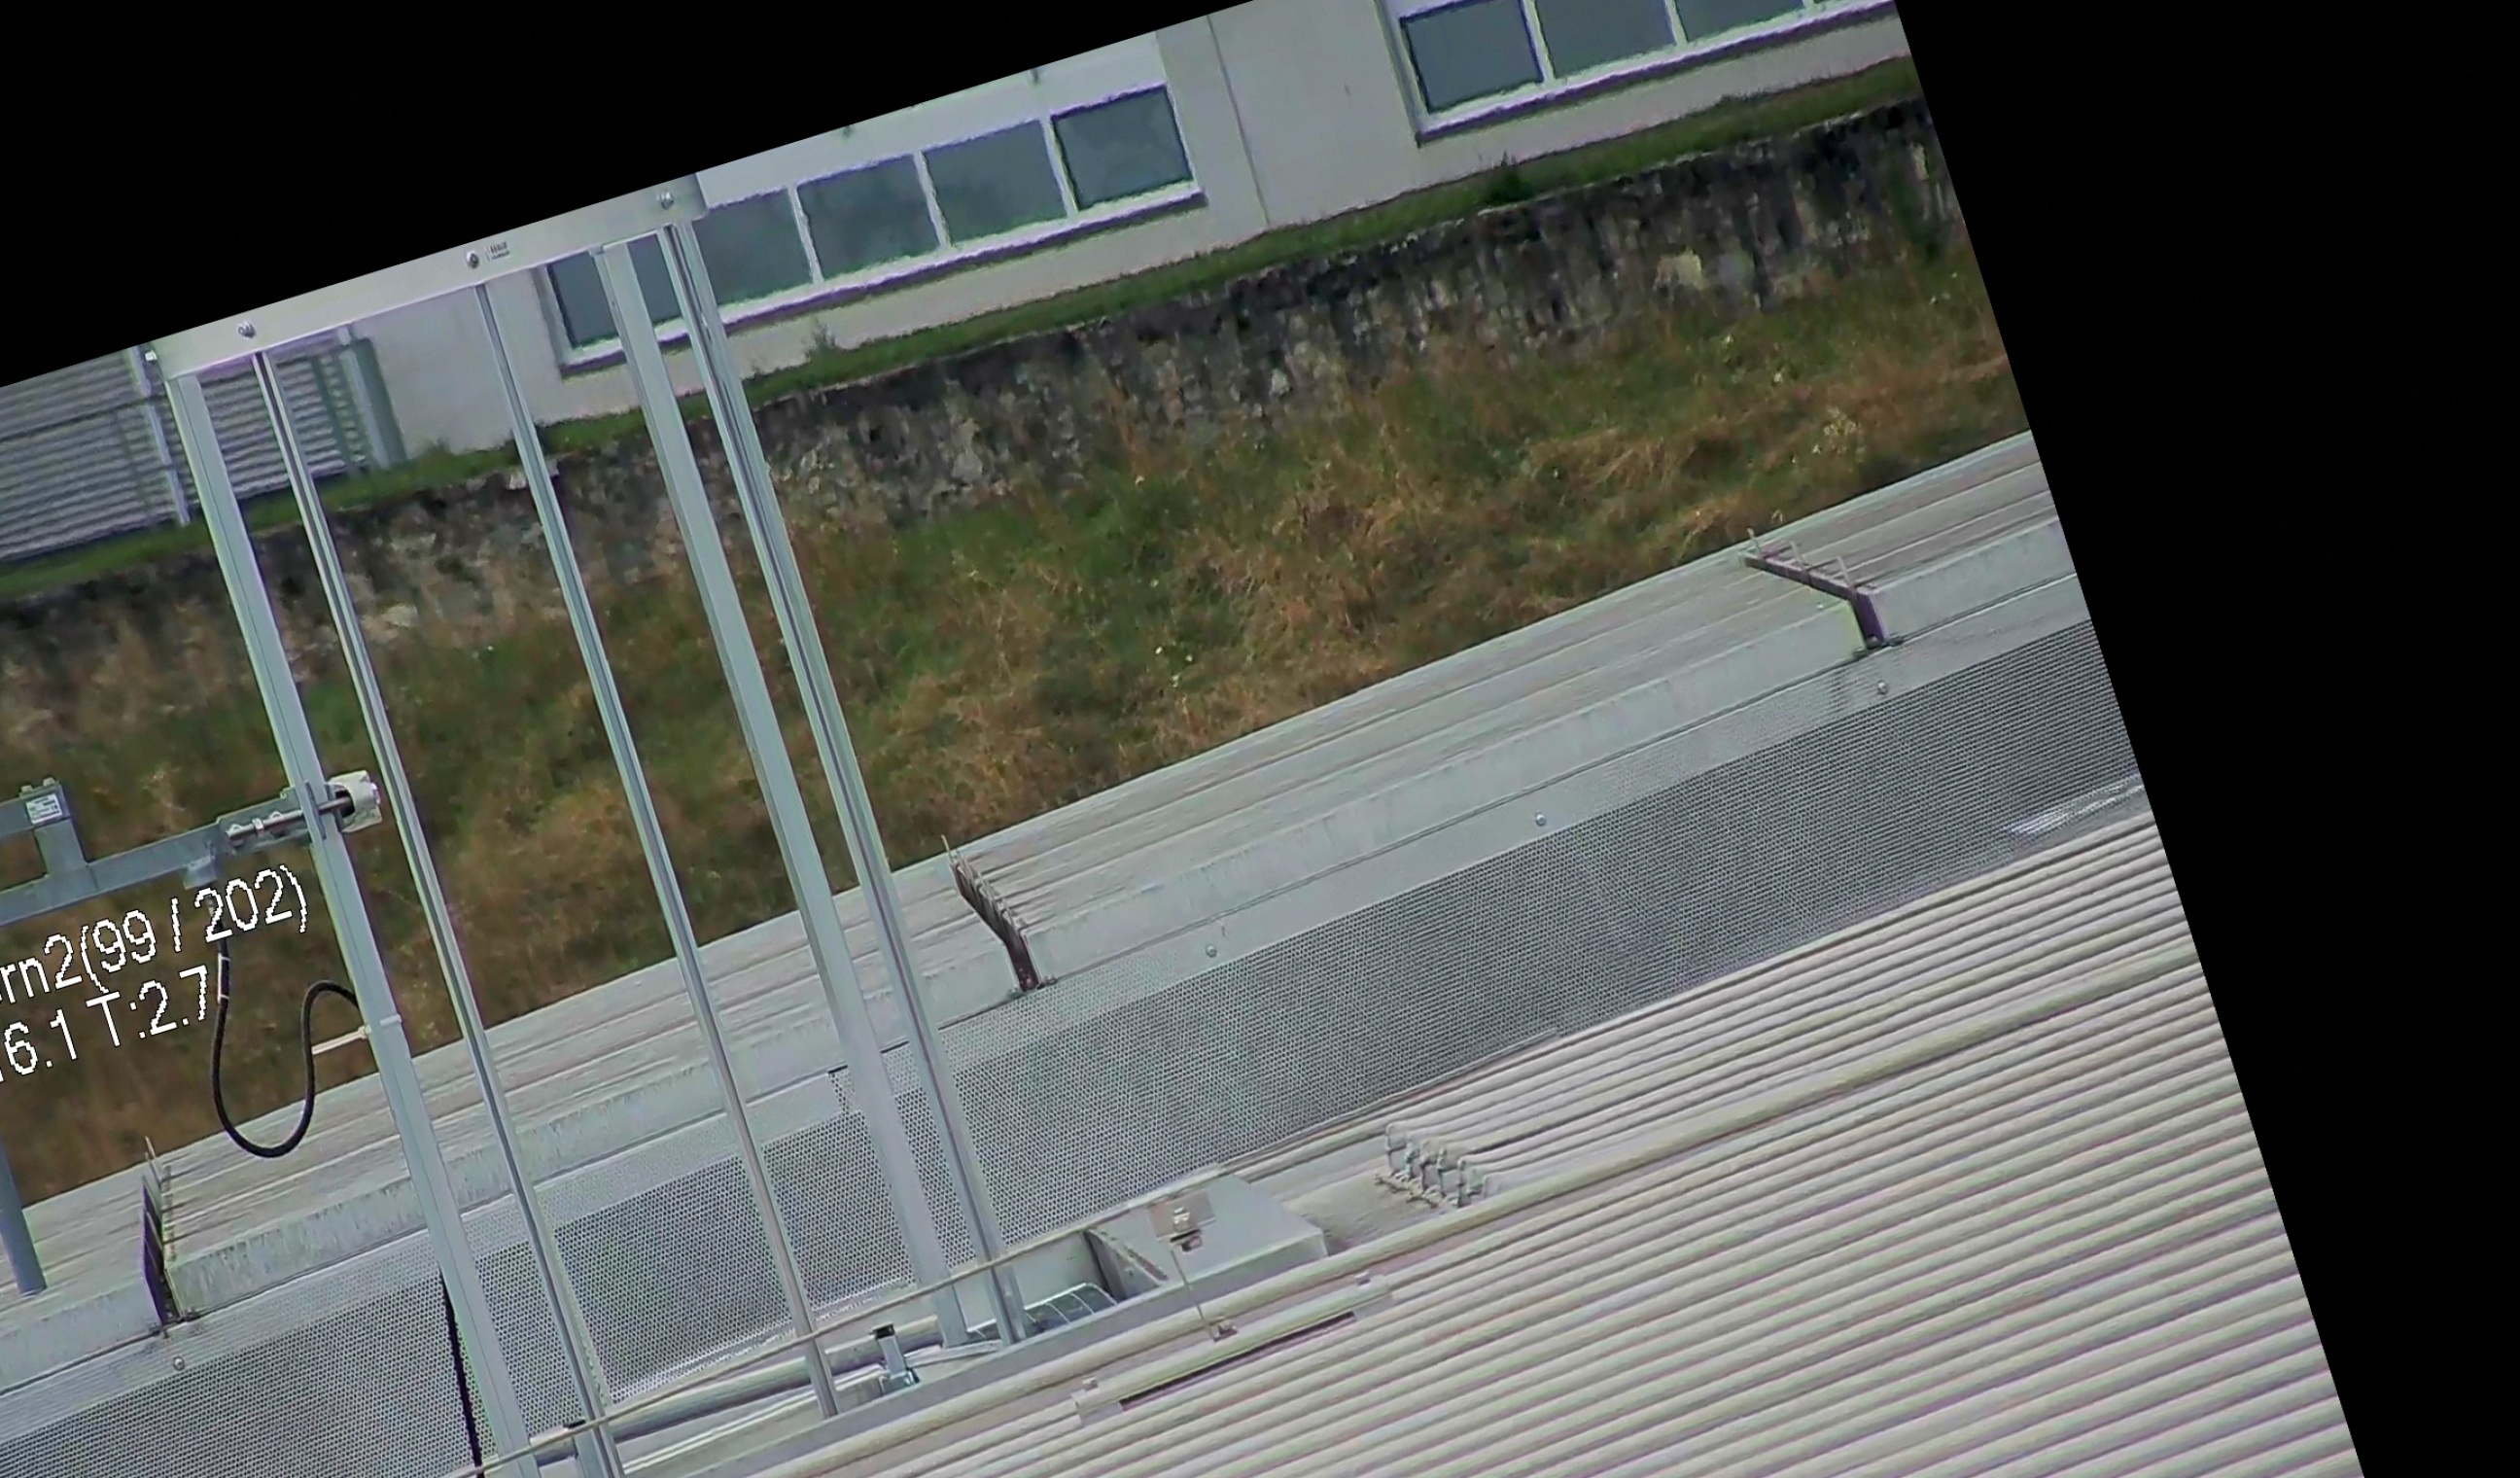Other: (918, 808, 1066, 1013)
